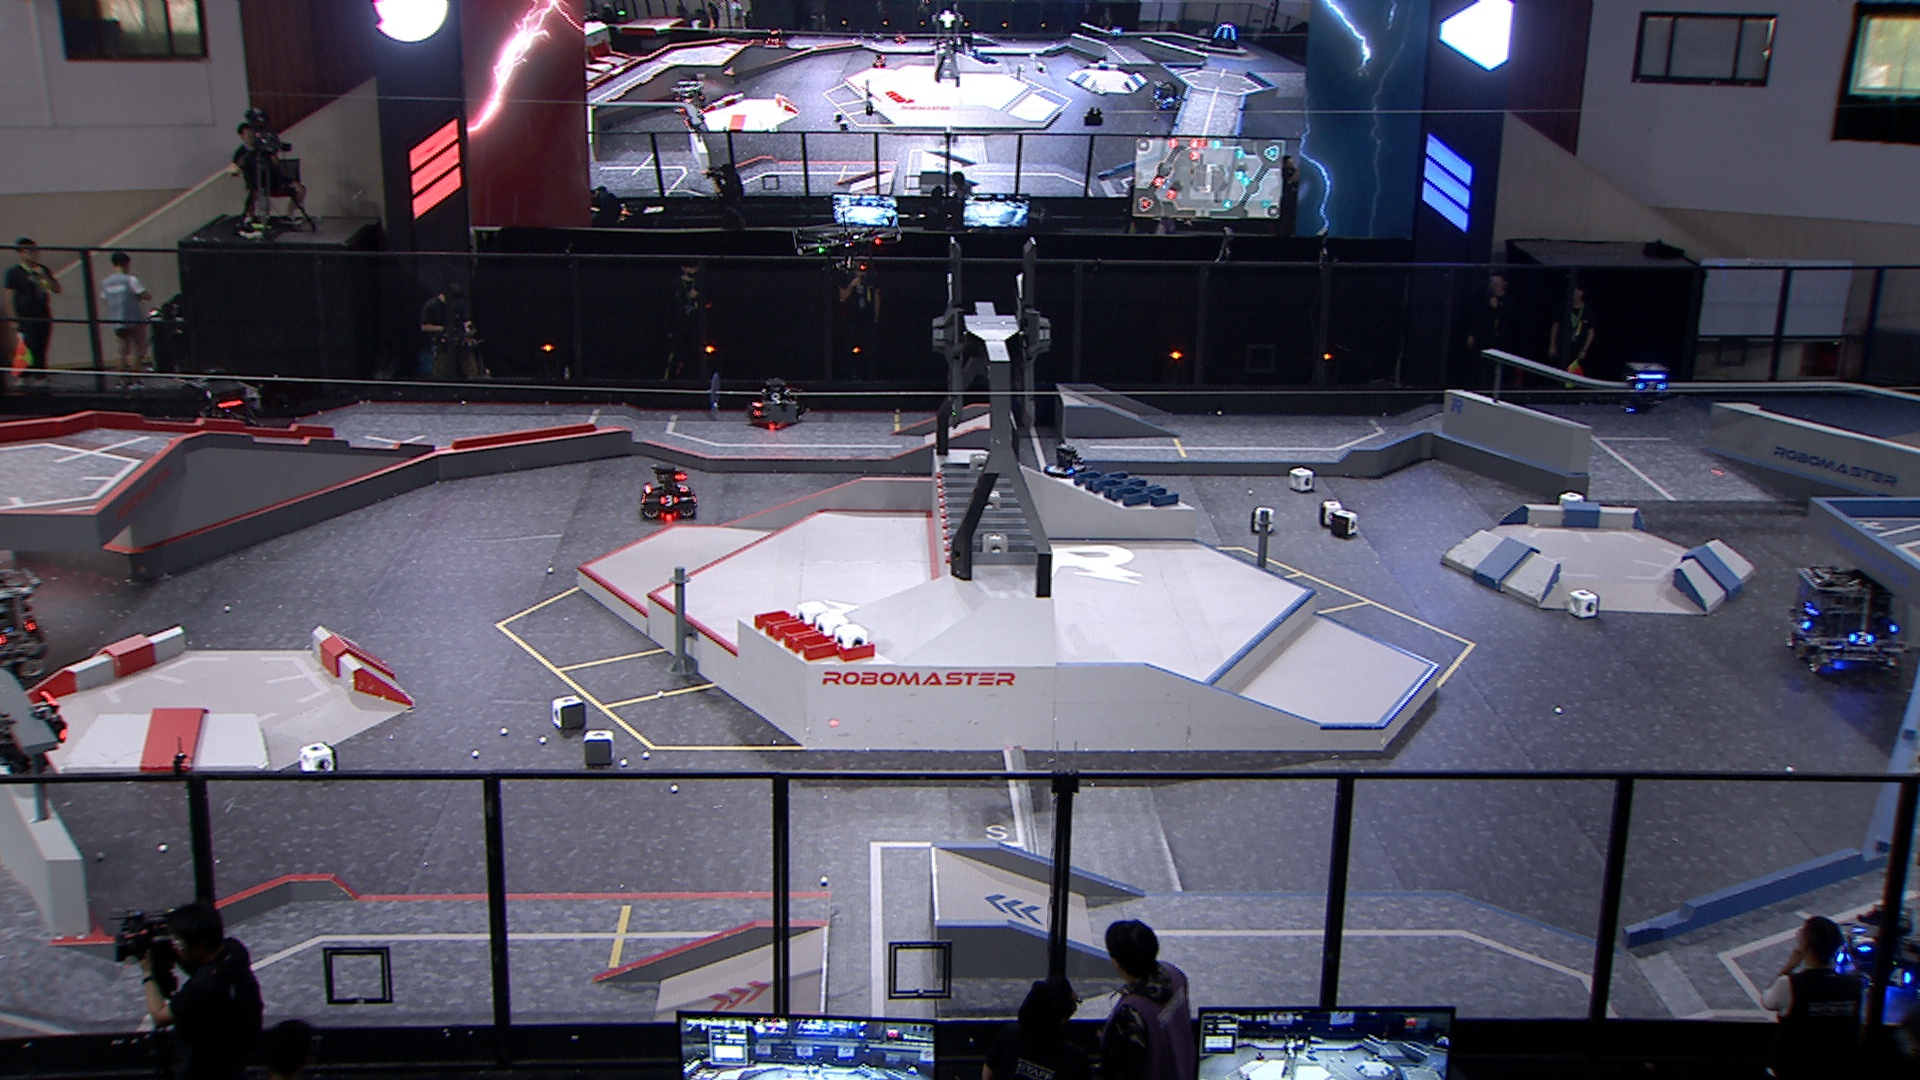armor: (1849, 924, 1876, 953), (1884, 964, 1912, 986), (1845, 632, 1875, 647), (1634, 380, 1665, 394), (1793, 611, 1812, 632), (655, 495, 680, 508), (678, 483, 692, 495)
car: (1784, 560, 1912, 676), (1818, 902, 1920, 996), (178, 377, 264, 458), (1031, 439, 1101, 505), (637, 458, 700, 520), (744, 385, 794, 429)
ignore: (669, 82, 707, 111), (1153, 80, 1183, 112), (1209, 21, 1240, 51)
watcher: (1622, 360, 1671, 417)
